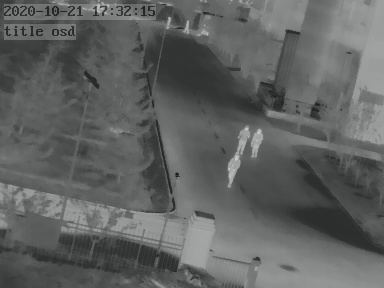person: (225, 138, 239, 185), (234, 125, 248, 166), (250, 125, 263, 159), (182, 19, 191, 36), (165, 16, 172, 29)
